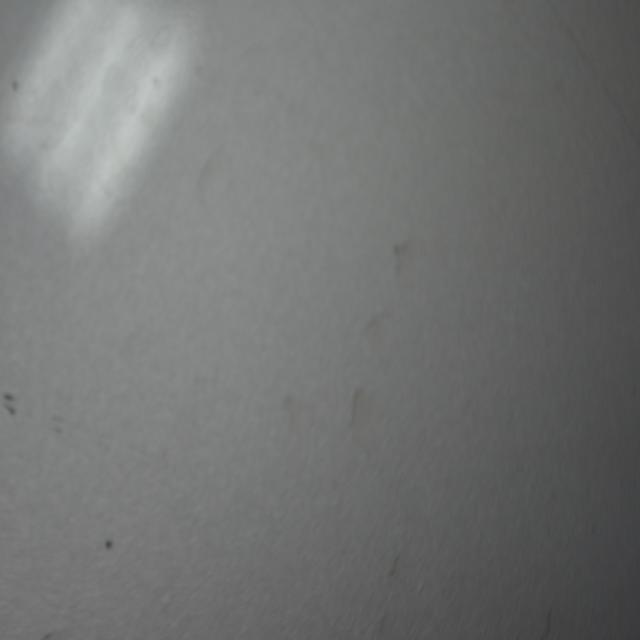dirt: (2, 381, 20, 421), (104, 532, 116, 549), (10, 73, 20, 93)
water marks: (187, 132, 239, 224), (347, 377, 384, 466), (359, 304, 404, 371), (388, 230, 422, 286), (381, 546, 417, 590)
